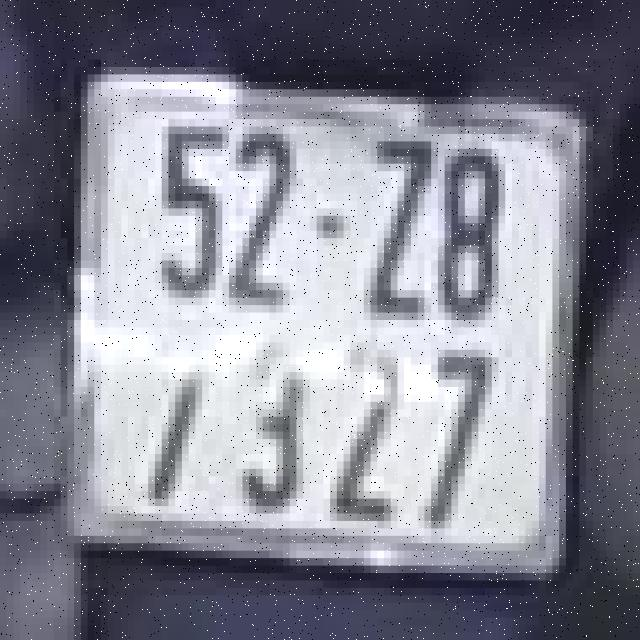2: (327, 327, 408, 521), (222, 119, 296, 313)
3: (232, 331, 314, 517)
5: (145, 115, 239, 309)
7: (414, 338, 502, 540), (138, 328, 219, 498)
8: (441, 130, 509, 331)
Z: (367, 123, 441, 331)
